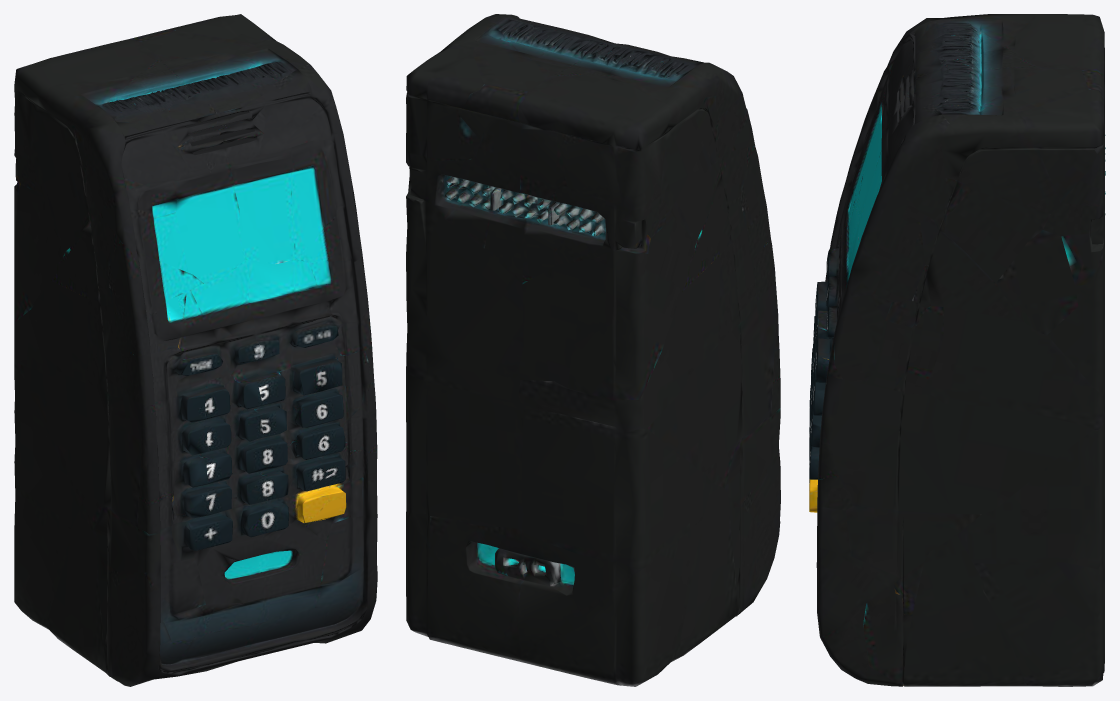
The model's file is co_terminal_p.glb.
3 views of the same model, side by side, from view 1: azimuth 30°, elevation 25°; view 2: azimuth 150°, elevation 25°; view 3: azimuth 270°, elevation 25° (orthographic). The views are drawn at different scales.
Size of the model in its own units: 0.8371 by 1.9 by 0.899.
Materials: 1 (1 with a texture image).
